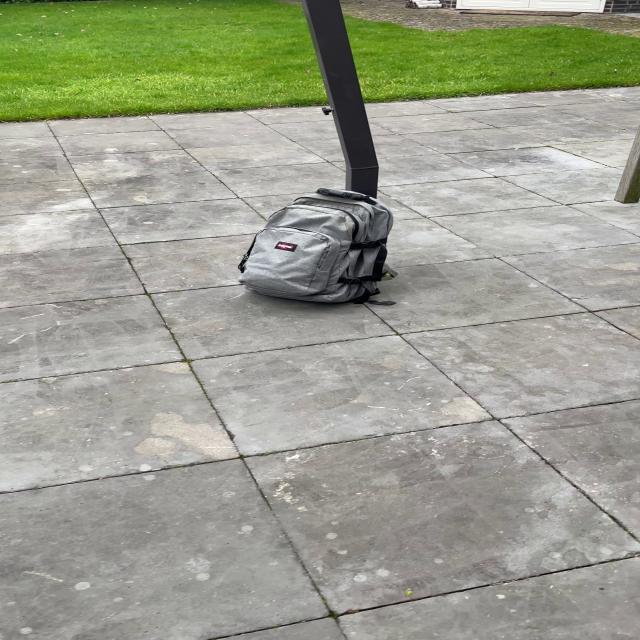backpack: (231, 183, 401, 307)
